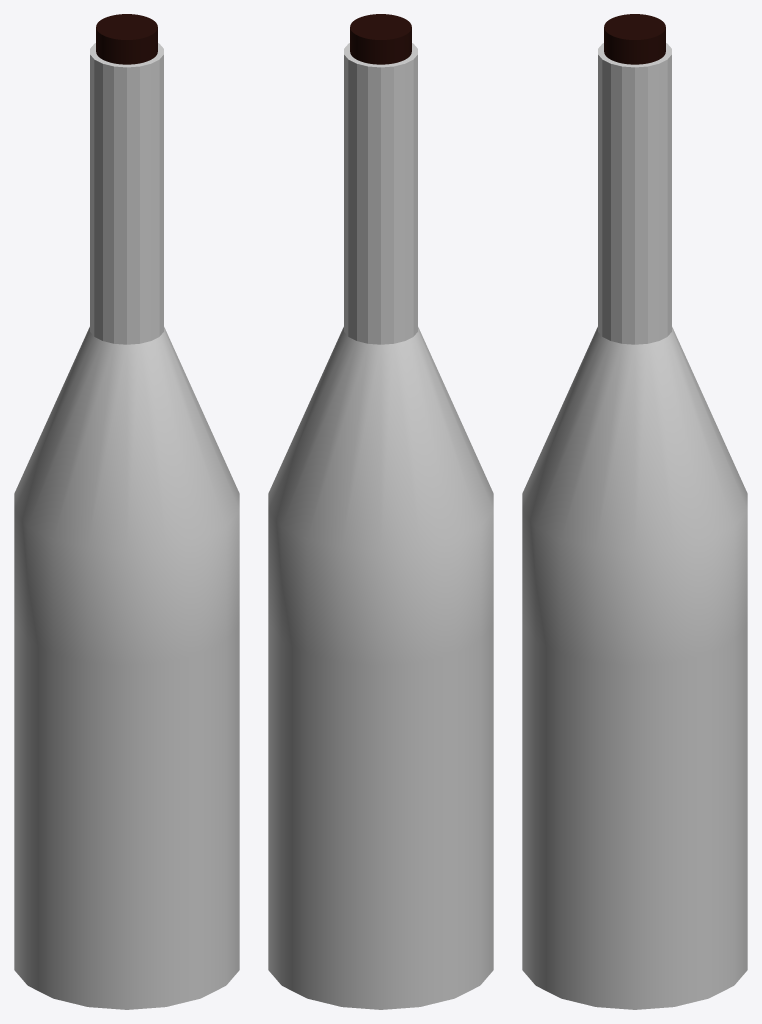
File: Molotov_cocktail.fbx
The picture shows the model from 3 angles, left to right: view 1: azimuth 30°, elevation 25°; view 2: azimuth 150°, elevation 25°; view 3: azimuth 270°, elevation 25°; orthographic projection.
Parts seen in each view (by area): view 1: Cylinder001, Shape001; view 2: Cylinder001, Shape001; view 3: Cylinder001, Shape001.
Boxes of the visible parts, <box> form: Cylinder001: <box>14,43,239,1009</box>; Shape001: <box>96,14,157,64</box>; Cylinder001: <box>268,43,493,1009</box>; Shape001: <box>350,14,411,64</box>; Cylinder001: <box>522,43,747,1009</box>; Shape001: <box>604,14,665,64</box>.
Bounding box in the file's own units: 34.77 × 156 × 34.24.
